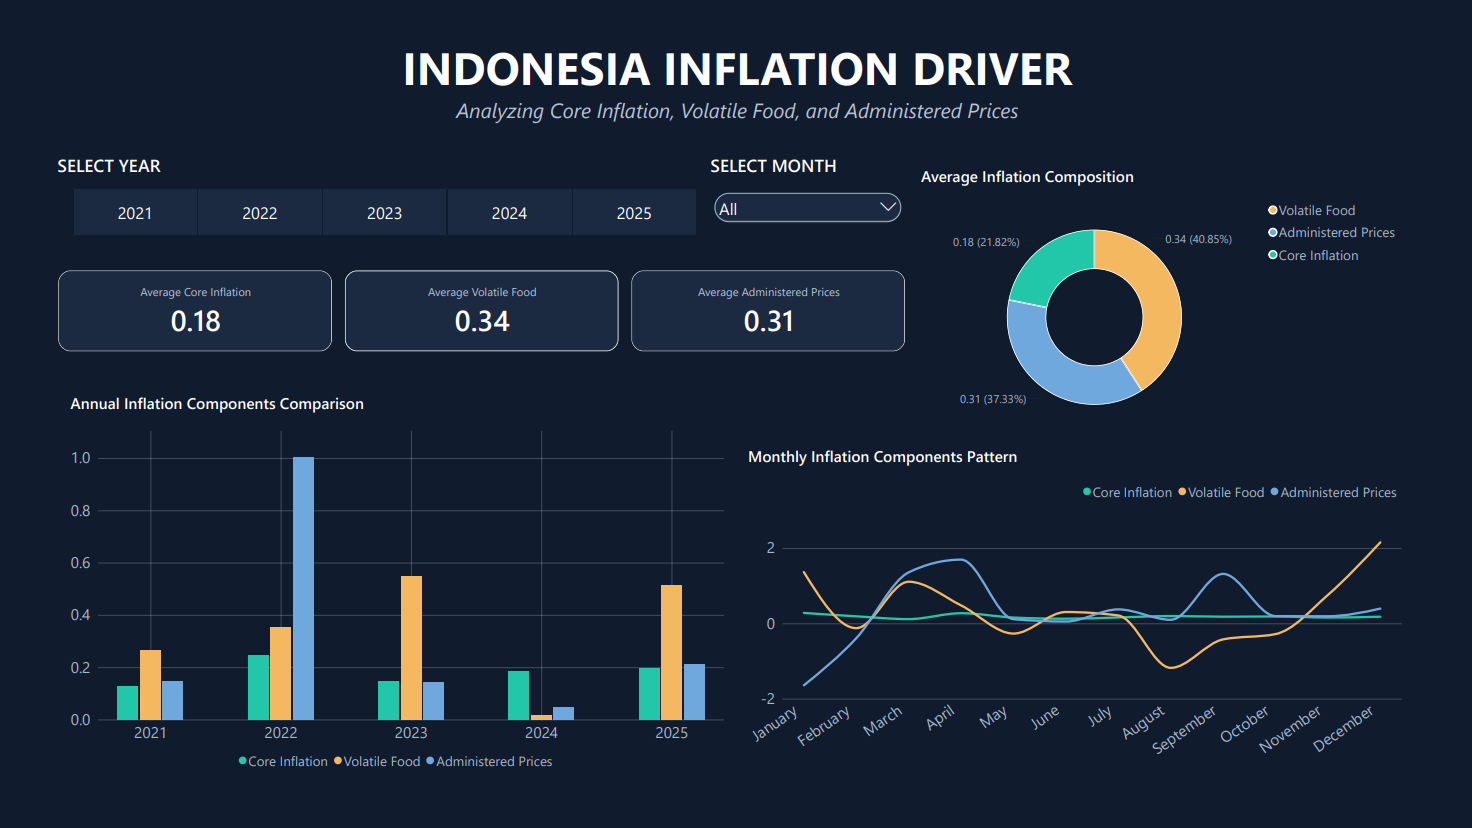

The page's visual inventory and layout, read from the dashboard file:
{"tool":"powerbi","page":{"name":"Inflation Driver","canvas":[1920,1080],"ordinal":1},"visuals":[{"type":"textbox","box":[298,49,1328,138.3],"z":0},{"type":"cardVisual","fields":{"Data":["DateTable.Average Volatile Food"]},"box":[450.8,353.8,356.2,105],"z":1000},{"type":"slicer","title":"SELECT YEAR","fields":{"Values":["DateTable.Year"]},"box":[77.3,201.8,850,107.5],"z":2000},{"type":"slicer","title":"SELECT MONTH","fields":{"Values":["DateTable.Month Name"]},"box":[927.3,201.8,252.9,105.7],"z":3000},{"type":"cardVisual","fields":{"Data":["DateTable.Average Administered Prices"]},"box":[823.8,353.8,356.2,105],"z":5000},{"type":"cardVisual","fields":{"Data":["DateTable.Average Core Inflation"]},"box":[77.5,353.8,356.7,105],"z":6000},{"type":"clusteredColumnChart","title":"Annual Inflation Components Comparison","fields":{"Category":["DateTable.Year"],"Y":["Avg(Sheet1.Core_Inflation)","Avg(Sheet1.Volatile_Food)","Avg(Sheet1.Administered_Prices)"]},"box":[77.5,497.5,882.5,525],"z":7000},{"type":"lineChart","title":"Monthly Inflation Components Pattern","fields":{"Category":["DateTable.Month Name"],"Y":["Avg(Sheet1.Core_Inflation)","Avg(Sheet1.Volatile_Food)","Avg(Sheet1.Administered_Prices)"]},"box":[960,567,882,455],"z":8000},{"type":"donutChart","title":"Average Inflation Composition","fields":{"Category":["Inflation_Components.Component"],"Y":["Inflation_Components.Average Component Inflation"]},"box":[1185,202.5,657.5,382.5],"z":9000}]}

Visuals, with their boxes in screenshot pixels (x1, y1, x2, y2), scaled from the page's 1920x1080 canvas onto the 1472x828 screenshot:
textbox: left=228, top=38, right=1247, bottom=144
cardVisual - DateTable.Average Volatile Food: left=346, top=271, right=619, bottom=352
"SELECT YEAR" slicer: left=59, top=155, right=711, bottom=237
"SELECT MONTH" slicer: left=711, top=155, right=905, bottom=236
cardVisual - DateTable.Average Administered Prices: left=632, top=271, right=905, bottom=352
cardVisual - DateTable.Average Core Inflation: left=59, top=271, right=333, bottom=352
"Annual Inflation Components Comparison" clusteredColumnChart: left=59, top=381, right=736, bottom=784
"Monthly Inflation Components Pattern" lineChart: left=736, top=435, right=1412, bottom=784
"Average Inflation Composition" donutChart: left=909, top=155, right=1413, bottom=449
